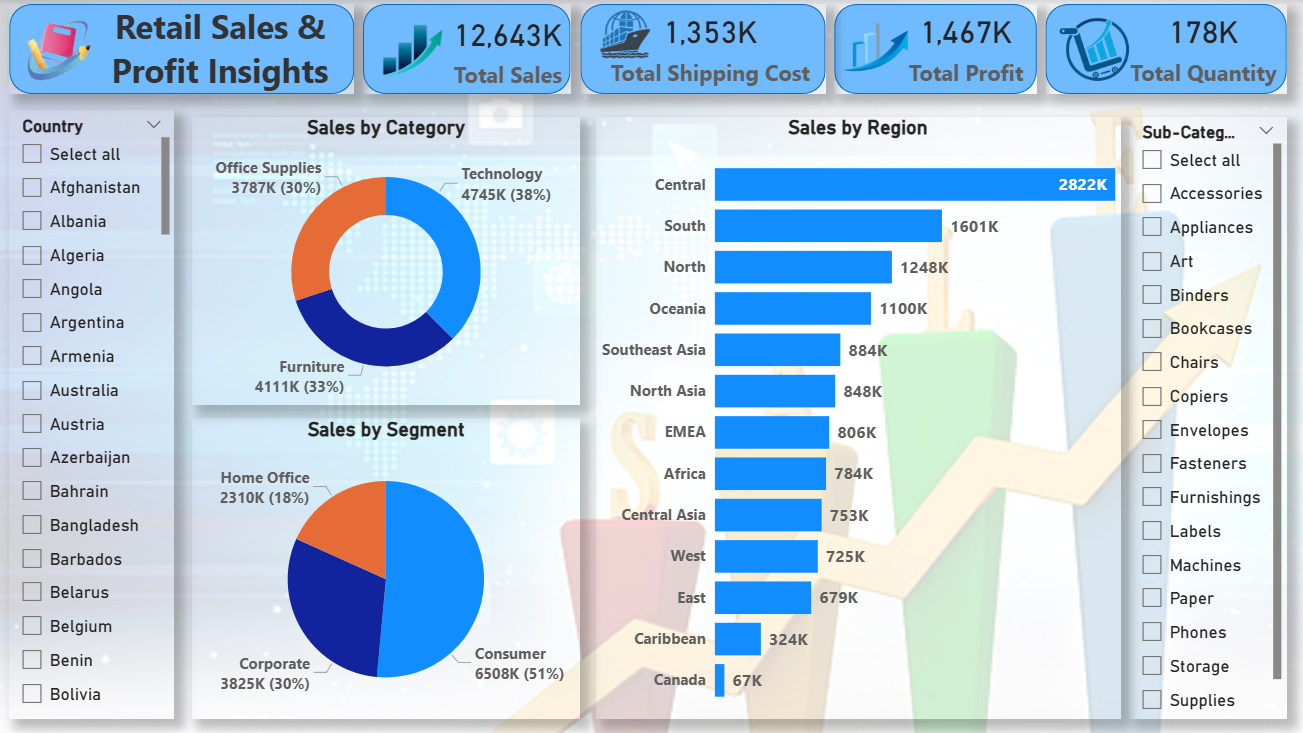

The page's visual inventory and layout, read from the dashboard file:
{"tool":"powerbi","page":{"name":"Sales Report","canvas":[1280,720],"ordinal":2},"visuals":[{"type":"shape","box":[11,4.9,337.5,88],"z":0},{"type":"textbox","box":[97.8,4.9,238.5,92.9],"z":1000},{"type":"image","box":[11,0,97.8,92.9],"z":2000},{"type":"shape","box":[357.1,4.9,203,88],"z":3000},{"type":"shape","box":[818.1,4.9,198.1,88],"z":4000},{"type":"shape","box":[1024.7,4.9,236,88],"z":5000},{"type":"card","fields":{"Values":["superstore_dataset2011-2015.Total Sales"]},"box":[436.6,2.4,124.7,90.5],"z":6000},{"type":"card","fields":{"Values":["superstore_dataset2011-2015.Total Quantity"]},"box":[1098.1,0,162.6,90.5],"z":7000},{"type":"card","fields":{"Values":["superstore_dataset2011-2015.Total Profit"]},"box":[869.4,0,155.3,90.5],"z":8000},{"type":"image","box":[818.1,0,86.8,97.8],"z":9000},{"type":"image","box":[1024.7,0,101.5,97.8],"z":10000},{"type":"image","box":[353.4,0,105.2,97.8],"z":11000},{"type":"slicer","fields":{"Values":["superstore_dataset2011-2015.Country"]},"box":[11,108.8,161.4,595.5],"z":12000},{"type":"slicer","fields":{"Values":["superstore_dataset2011-2015.Sub-Category"]},"box":[1106.7,114.9,154.1,589.4],"z":13000},{"type":"shape","box":[569.8,4.9,239.7,88],"z":18000},{"type":"card","fields":{"Values":["superstore_dataset2011-2015.Total Shipping Cost"]},"box":[584.5,0,225,90.5],"z":19000},{"type":"image","box":[578.4,0,72.1,72.1],"z":20000},{"type":"donutChart","title":"Sales by Category","fields":{"Y":["superstore_dataset2011-2015.Total Sales"],"Category":["superstore_dataset2011-2015.Category"]},"box":[189.5,114.9,380.3,282.5],"z":20001},{"type":"pieChart","title":"Sales by Segment","fields":{"Category":["superstore_dataset2011-2015.Segment"],"Y":["superstore_dataset2011-2015.Total Sales"]},"box":[189.5,409.6,380.3,294.7],"z":20002},{"type":"clusteredBarChart","title":"Sales by Region","fields":{"Category":["superstore_dataset2011-2015.Region"],"Y":["Sum(superstore_dataset2011-2015.Sales)"]},"box":[584.5,114.9,513.6,589.4],"z":20003}]}

Visuals, with their boxes in screenshot pixels (x1, y1, x2, y2), scaled from the page's 1280x720 canvas onto the 1303x733 screenshot:
shape: (11,5,355,95)
textbox: (100,5,342,100)
image: (11,0,111,95)
shape: (364,5,570,95)
shape: (833,5,1034,95)
shape: (1043,5,1283,95)
card - superstore_dataset2011-2015.Total Sales: (444,2,571,95)
card - superstore_dataset2011-2015.Total Quantity: (1118,0,1283,92)
card - superstore_dataset2011-2015.Total Profit: (885,0,1043,92)
image: (833,0,921,100)
image: (1043,0,1146,100)
image: (360,0,467,100)
slicer - superstore_dataset2011-2015.Country: (11,111,175,717)
slicer - superstore_dataset2011-2015.Sub-Category: (1127,117,1283,717)
shape: (580,5,824,95)
card - superstore_dataset2011-2015.Total Shipping Cost: (595,0,824,92)
image: (589,0,662,73)
"Sales by Category" donutChart: (193,117,580,405)
"Sales by Segment" pieChart: (193,417,580,717)
"Sales by Region" clusteredBarChart: (595,117,1118,717)
